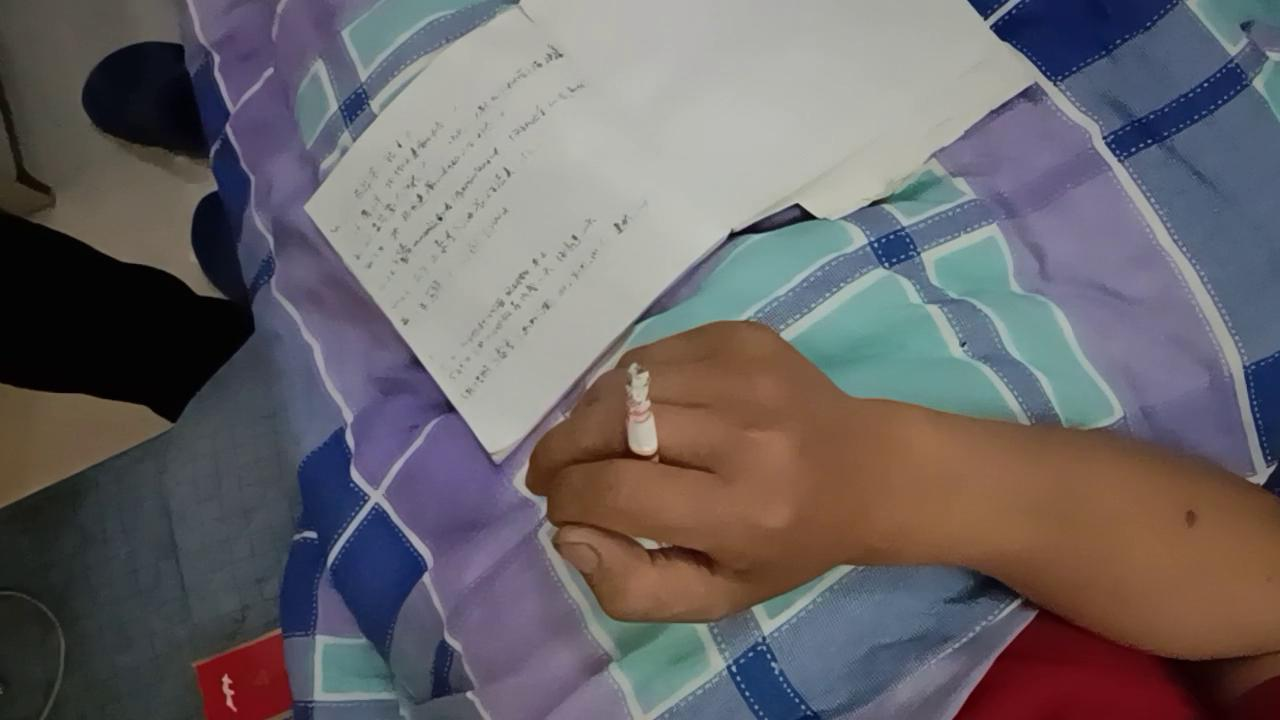smoke: (626, 362, 662, 484)
